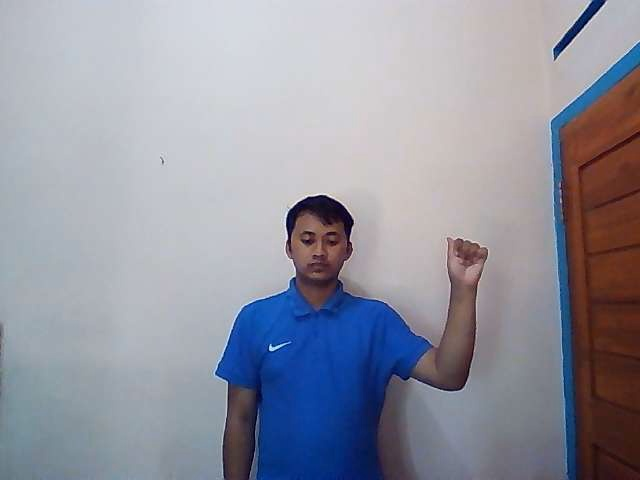A: (445, 236, 490, 283)
